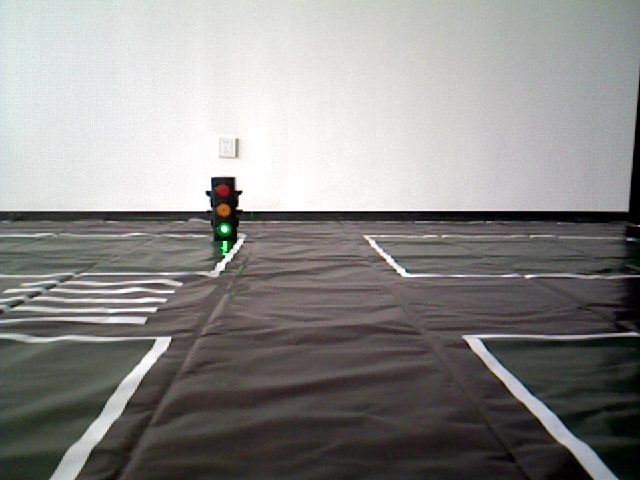green: (209, 180, 235, 236)
